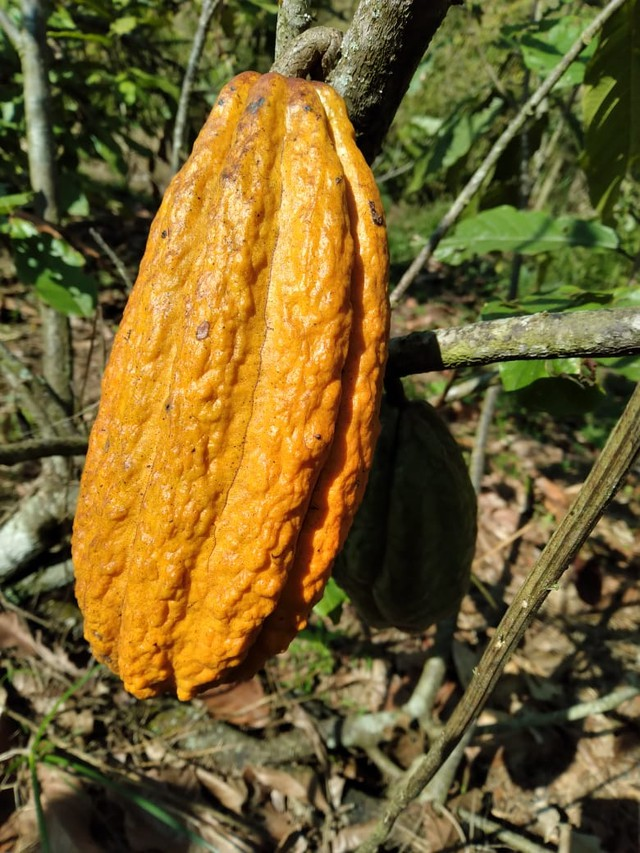Health: (66, 65, 403, 708)
